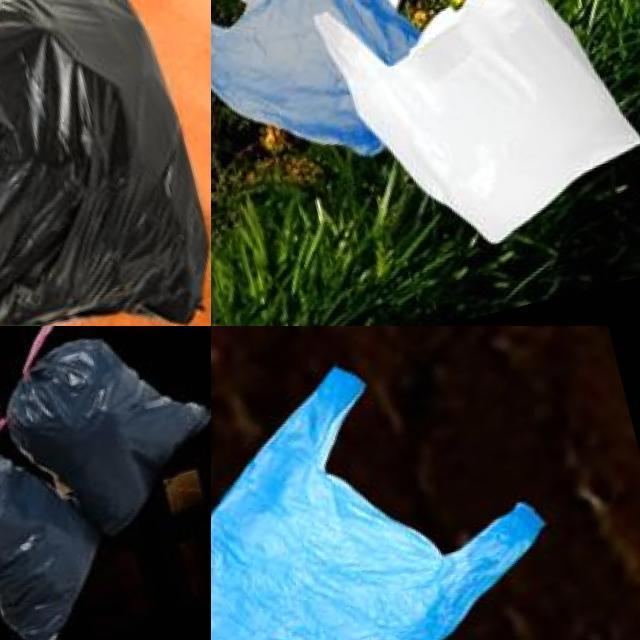waste: (211, 326, 598, 640), (299, 0, 640, 267), (0, 0, 211, 326), (0, 326, 211, 543), (211, 0, 448, 190), (0, 423, 122, 640)
